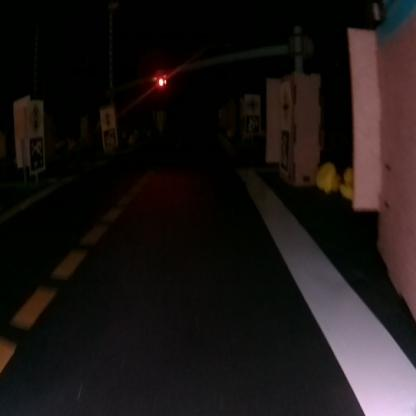duckie: (315, 155, 341, 201)
